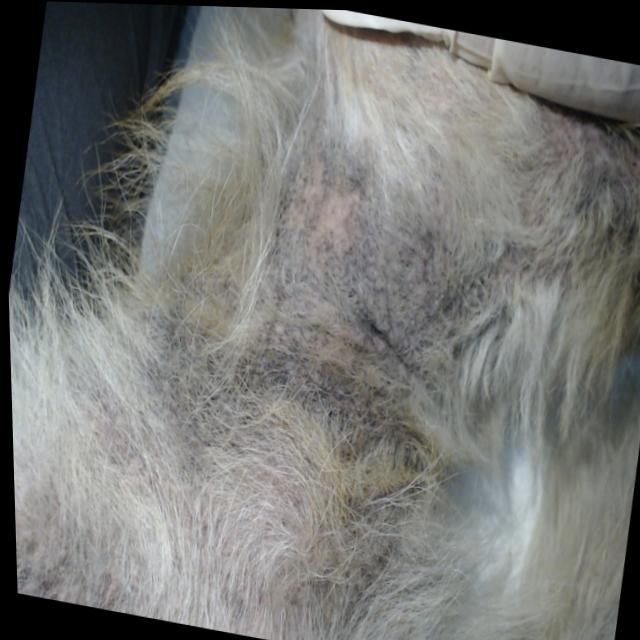demodicosis: (261, 138, 392, 353)
